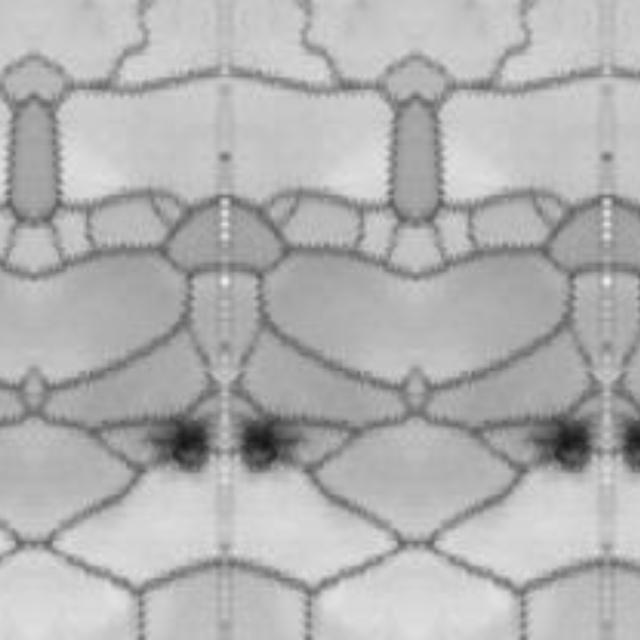good_void: (226, 403, 300, 476), (148, 403, 222, 476), (532, 403, 605, 476), (609, 404, 640, 476)
